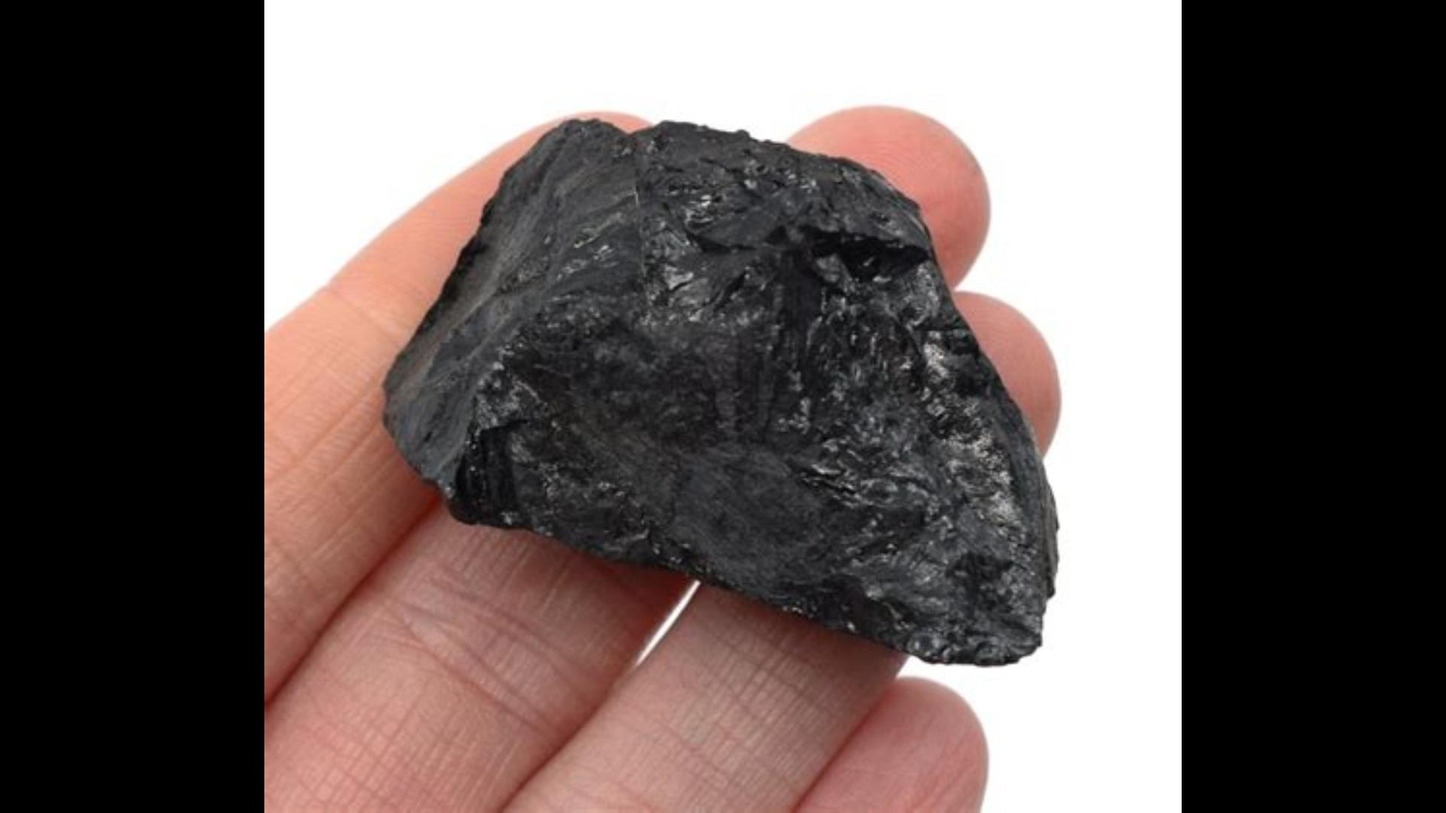rock: (386, 122, 1051, 660)
